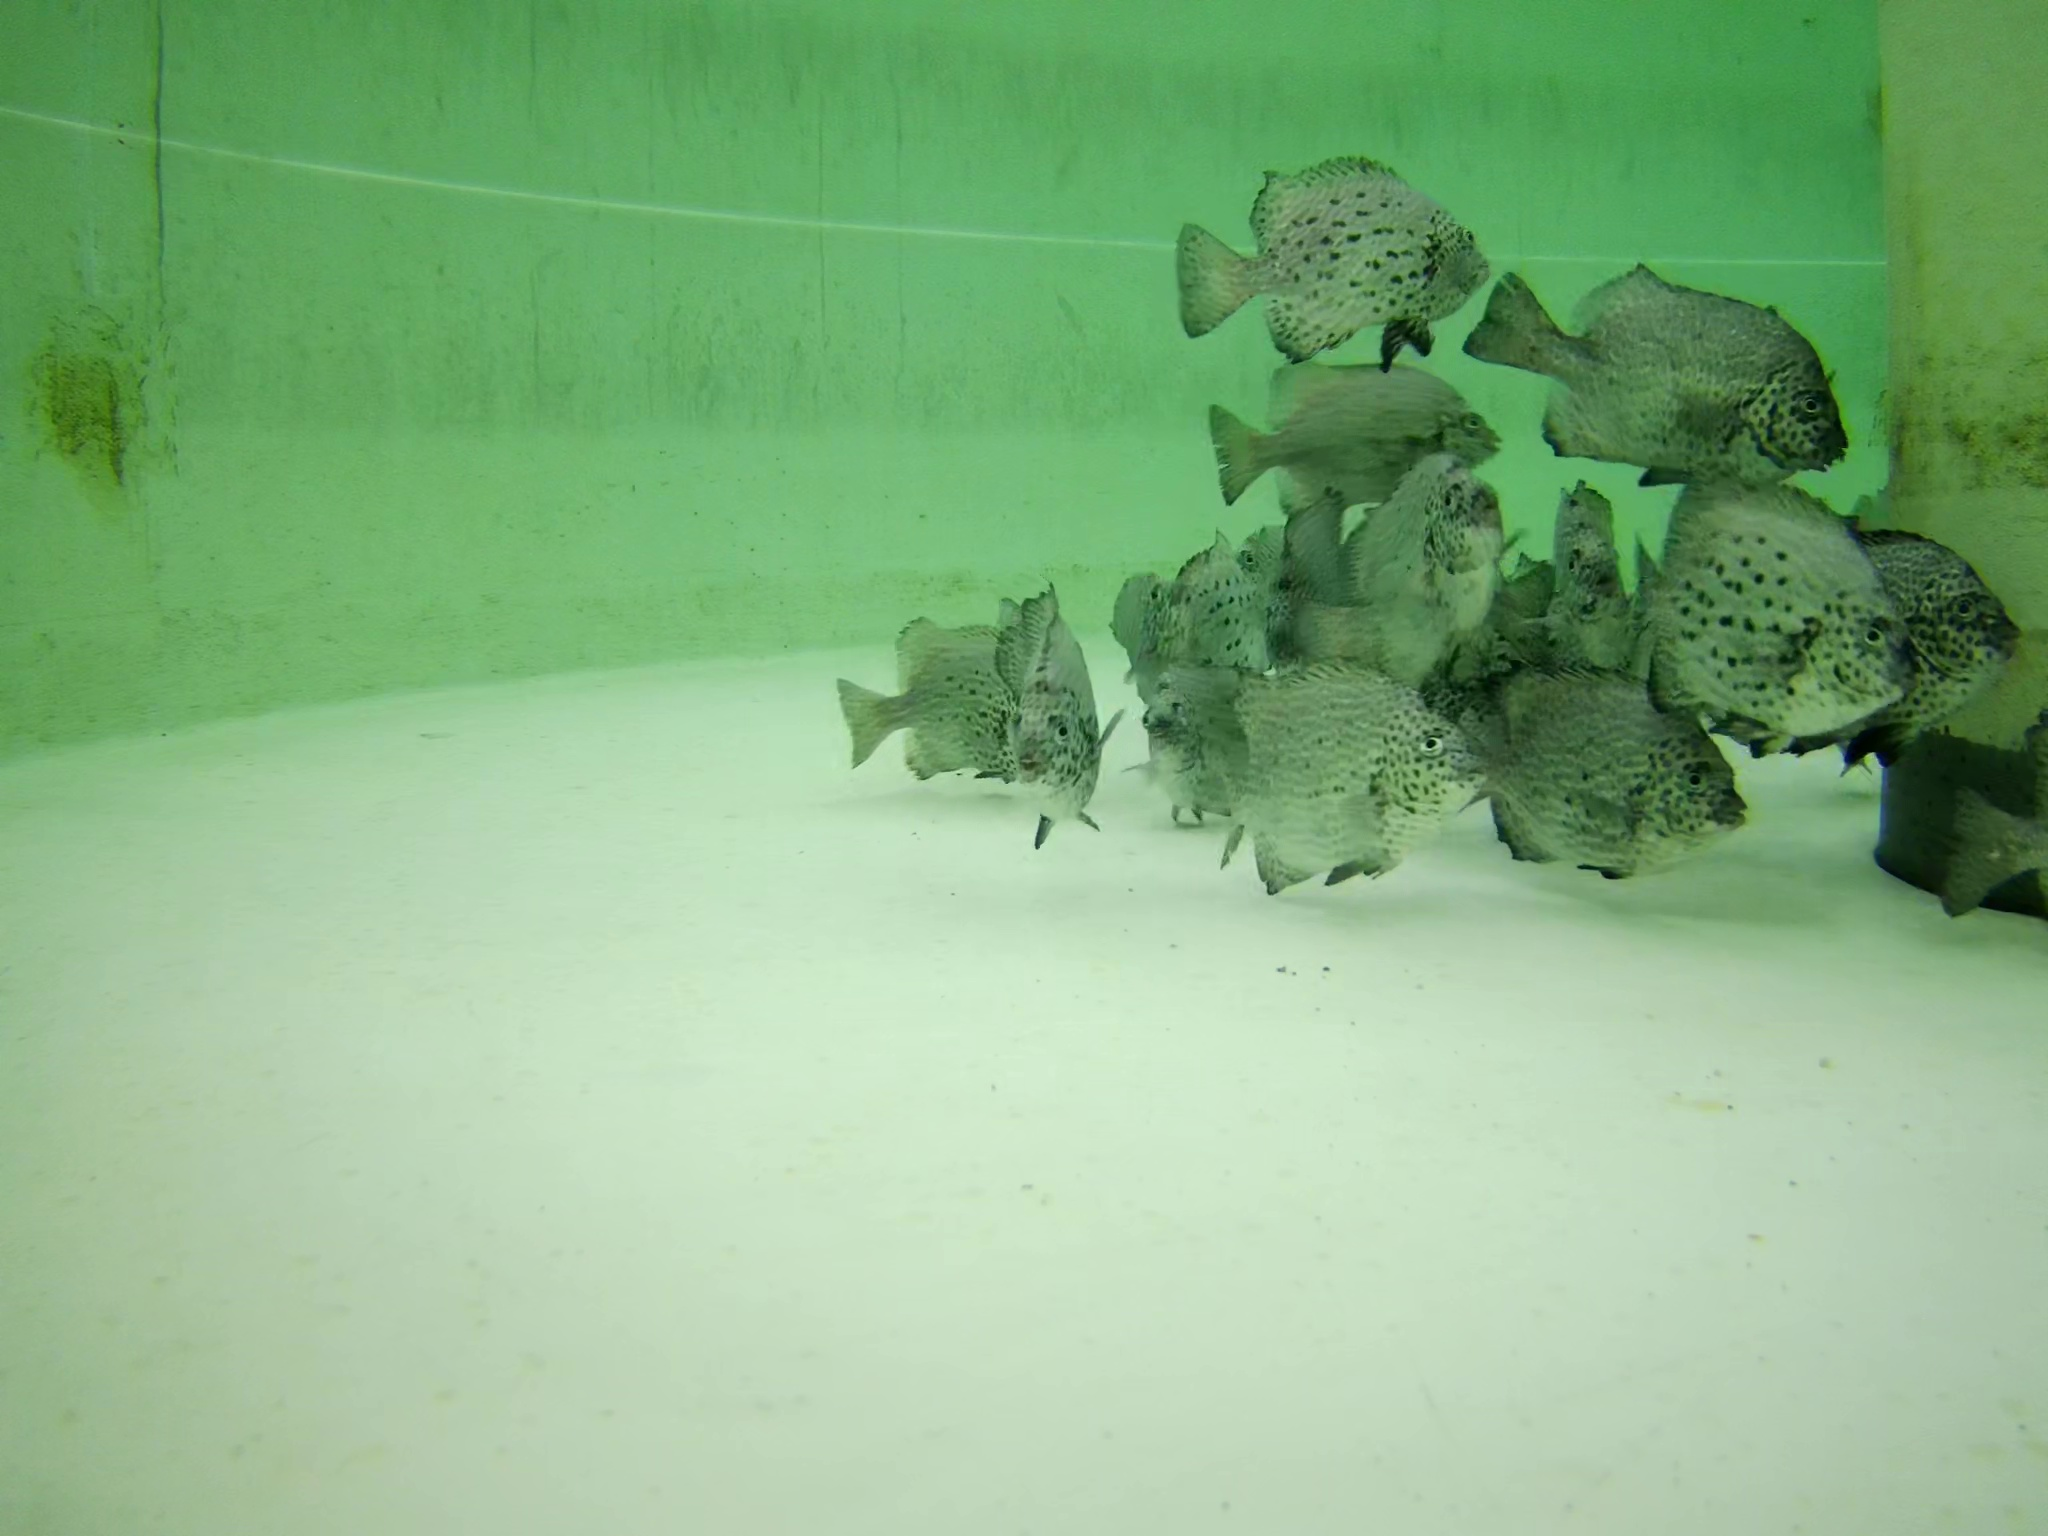fish: (1453, 250, 1856, 482), (1634, 471, 1908, 745), (1211, 647, 1474, 886), (1171, 147, 1485, 334), (1467, 678, 1755, 873), (1185, 360, 1493, 489), (829, 610, 1019, 797), (1845, 529, 2000, 739), (993, 566, 1103, 845), (1108, 536, 1261, 687), (1506, 490, 1629, 668), (1950, 762, 2048, 929), (1143, 657, 1209, 836)
